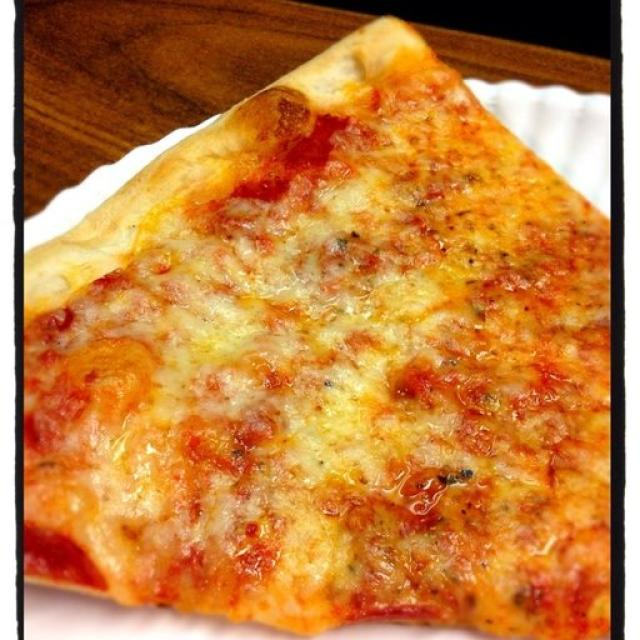Cheese: (168, 242, 275, 374), (290, 419, 390, 486), (379, 280, 444, 366)
Pizza: (22, 16, 611, 640)
